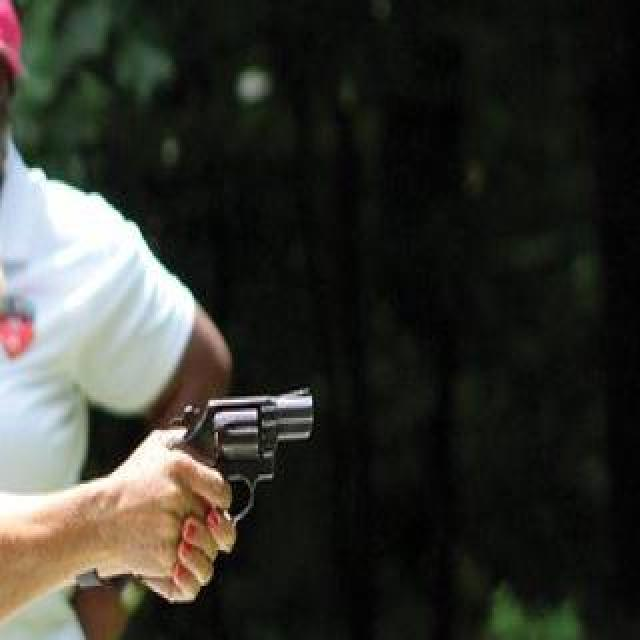Guns: (158, 370, 342, 543)
